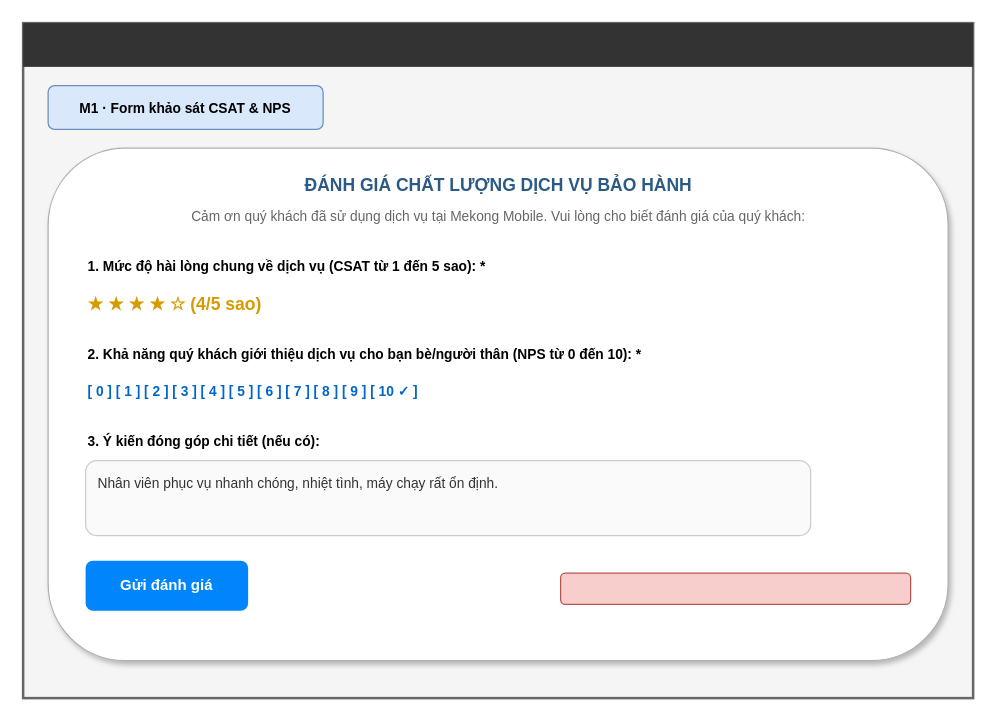
Image size: 995x720. Some labels were removed from this diagram. Each missing label, with the centre of its shape:
"Mekong Mobile · Khảo sát dịch vụ bảo hành" belongs at [497,44].
"Ngoại lệ · Thiếu điểm bắt buộc hiển thị cảnh báo" belongs at [735,588].
